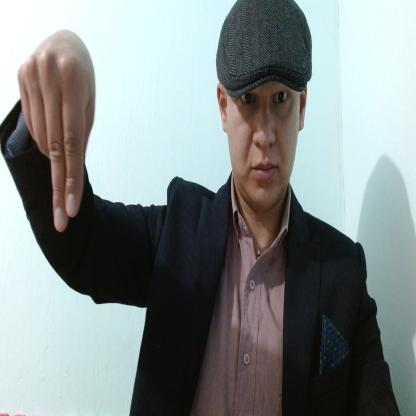N: (19, 30, 96, 230)
